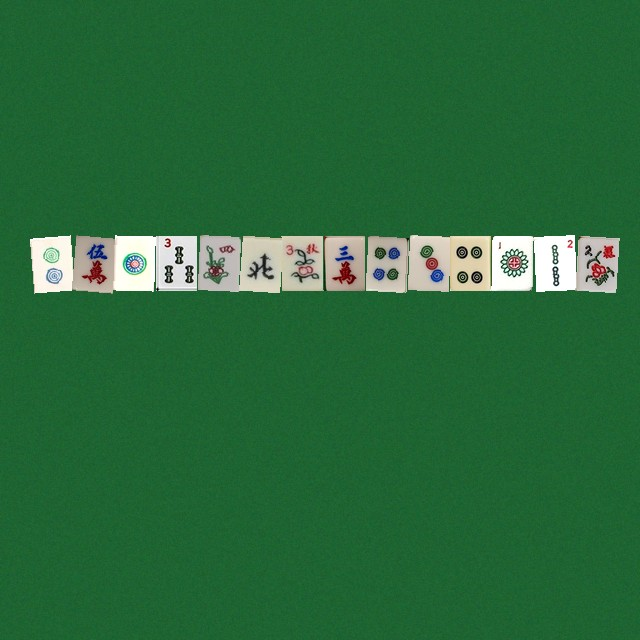tile: (29, 235, 70, 290), (71, 235, 112, 290), (113, 235, 154, 290), (155, 235, 196, 290), (197, 235, 238, 290), (239, 235, 280, 290), (281, 235, 322, 290), (323, 235, 364, 290), (365, 235, 406, 290), (407, 235, 448, 290), (449, 235, 490, 290), (491, 235, 532, 290), (533, 235, 574, 290), (575, 235, 616, 290)
